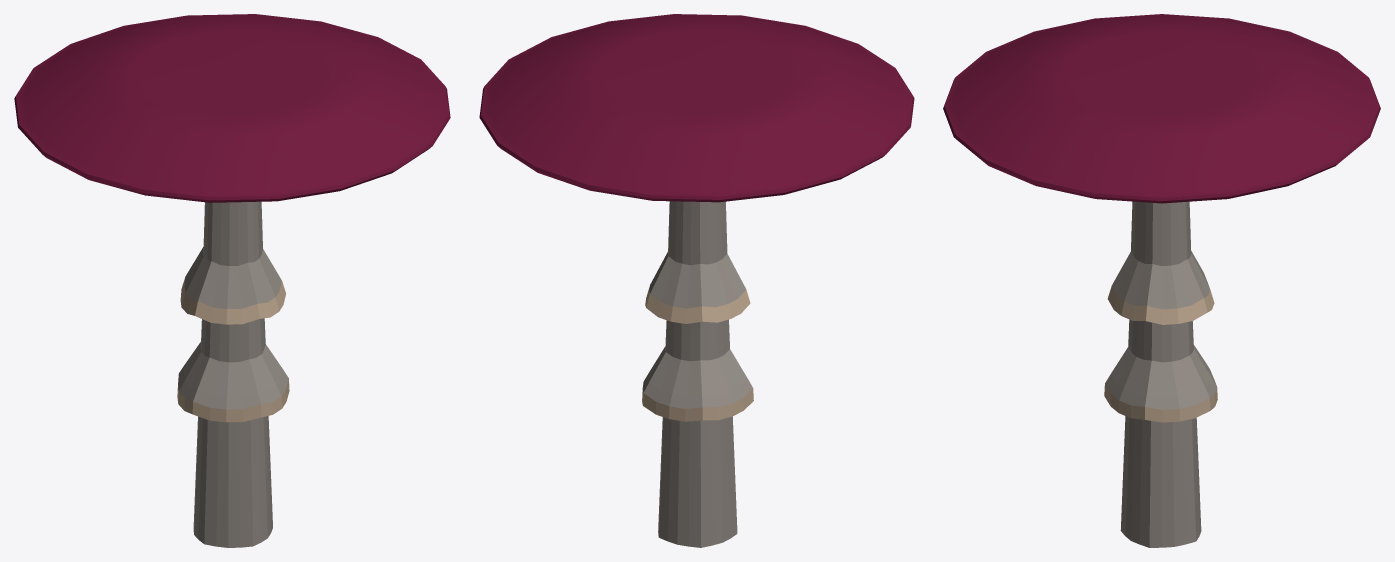
The model's file is mushroomtall2.fbx.
The picture shows the model from 3 angles, left to right: view 1: azimuth 30°, elevation 25°; view 2: azimuth 150°, elevation 25°; view 3: azimuth 270°, elevation 25°; orthographic projection.
Parts seen in each view (by area): view 1: mushroomtall2; view 2: mushroomtall2; view 3: mushroomtall2.
Part boxes in pixels (<box>): mushroomtall2: <box>14,14,450,547</box>; mushroomtall2: <box>479,14,914,547</box>; mushroomtall2: <box>943,14,1380,547</box>.
Size of the model in its own units: 895 by 1034 by 895.
